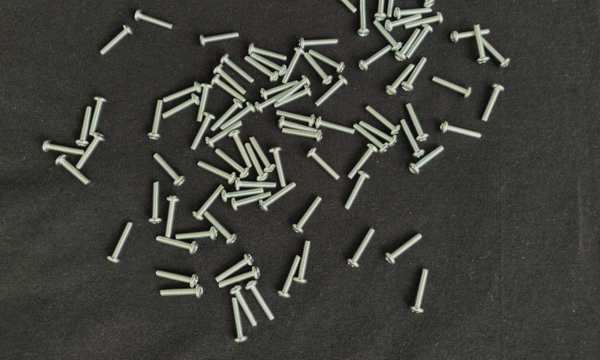longscrew: (385, 233, 429, 266), (347, 228, 379, 268), (346, 144, 378, 184), (229, 284, 258, 326), (248, 280, 277, 322), (344, 173, 375, 212), (293, 194, 324, 233), (95, 26, 134, 56), (148, 154, 185, 185), (160, 94, 204, 120), (217, 268, 261, 294), (256, 86, 300, 112), (132, 5, 176, 30), (440, 119, 484, 144), (430, 75, 474, 100), (159, 280, 203, 305), (214, 255, 258, 280), (393, 26, 423, 62), (189, 110, 214, 153), (159, 77, 202, 102), (155, 265, 198, 290), (407, 25, 437, 60), (193, 185, 221, 222), (57, 155, 89, 187), (206, 210, 236, 244), (277, 84, 312, 113), (408, 146, 443, 175), (383, 65, 418, 94), (212, 75, 248, 103), (307, 150, 343, 178), (276, 75, 312, 103), (225, 130, 252, 167), (316, 77, 349, 107), (364, 108, 402, 134), (221, 55, 256, 83), (214, 66, 249, 94), (261, 182, 296, 210), (110, 222, 133, 264), (371, 20, 402, 50), (212, 151, 249, 176), (401, 121, 426, 158), (399, 58, 426, 92), (283, 48, 308, 84), (360, 122, 397, 146), (354, 127, 389, 152), (359, 44, 390, 72), (231, 193, 274, 213), (244, 144, 267, 181), (199, 30, 241, 50), (156, 237, 198, 257), (176, 224, 218, 244), (147, 97, 166, 141), (145, 179, 164, 223), (227, 298, 246, 342), (484, 81, 503, 125), (192, 164, 236, 183), (249, 136, 272, 172), (222, 105, 255, 130), (163, 194, 182, 237), (252, 55, 289, 77), (212, 101, 240, 130), (208, 123, 240, 148), (90, 94, 108, 138), (75, 103, 93, 147), (413, 269, 431, 313), (406, 104, 428, 140), (303, 55, 331, 83), (245, 57, 279, 80), (281, 256, 299, 299), (295, 241, 313, 284), (472, 23, 490, 66), (195, 83, 215, 121), (357, 0, 375, 42), (262, 80, 299, 99), (309, 52, 345, 70), (279, 119, 321, 134), (405, 12, 447, 27), (393, 4, 435, 19), (234, 178, 276, 193), (248, 44, 290, 59), (222, 185, 263, 200), (271, 148, 287, 186), (281, 128, 323, 142), (316, 119, 358, 133), (274, 111, 316, 125), (298, 36, 340, 50), (450, 27, 492, 41), (383, 15, 425, 29), (372, 0, 390, 23), (386, 0, 399, 20)
